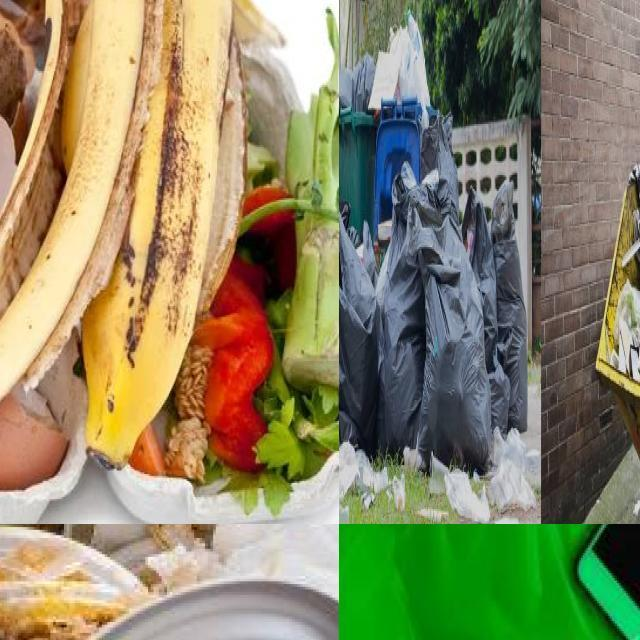E-Waste: (576, 524, 640, 640)
Garbage: (339, 116, 527, 472), (0, 524, 339, 640), (342, 58, 376, 97)
Plastic_Bag: (417, 217, 492, 469), (376, 159, 426, 453), (461, 188, 509, 438), (339, 210, 380, 450), (492, 178, 527, 431), (421, 111, 460, 234)
contaminated_waste: (0, 339, 87, 524), (94, 580, 339, 640), (212, 524, 339, 602), (107, 466, 274, 524), (0, 528, 141, 592), (278, 453, 339, 517), (212, 524, 286, 557)
